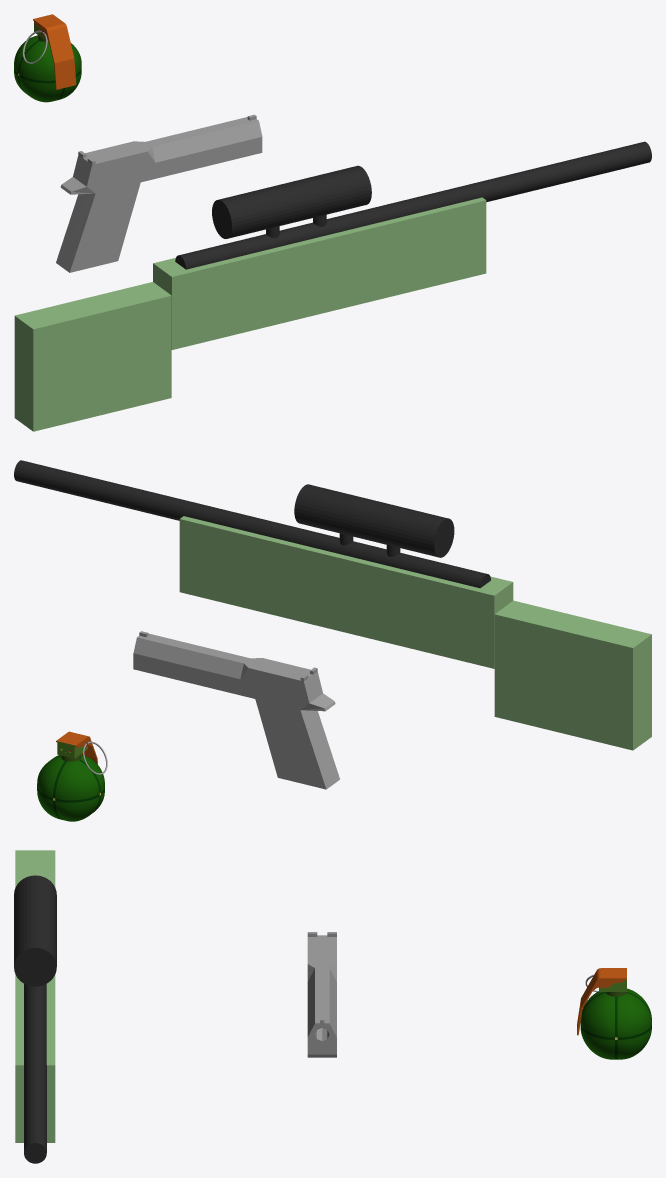
File: weapons.glb
The picture shows the model from 3 angles, top to bottom: view 1: azimuth 30°, elevation 25°; view 2: azimuth 150°, elevation 25°; view 3: azimuth 270°, elevation 25°; orthographic projection. The views are drawn at different scales.
Parts seen in each view (by area): view 1: stock, stock.001, pistol, Cylinder, Cylinder.003, plater, hair; view 2: stock, stock.001, pistol, Cylinder, Cylinder.003, plater, hair; view 3: Cylinder.003, Cylinder, plater, pistol, stock, stock.001, hair, cross.
Boxes of the visible parts, bbox=[...] form: stock: bbox=[153, 197, 486, 349]; stock.001: bbox=[14, 282, 171, 431]; pistol: bbox=[56, 114, 262, 272]; Cylinder: bbox=[175, 141, 651, 269]; Cylinder.003: bbox=[212, 165, 371, 238]; plater: bbox=[14, 35, 81, 102]; hair: bbox=[33, 14, 76, 89]; stock: bbox=[179, 516, 513, 668]; stock.001: bbox=[494, 600, 651, 750]; pistol: bbox=[133, 631, 339, 789]; Cylinder: bbox=[14, 460, 490, 588]; Cylinder.003: bbox=[294, 484, 454, 557]; plater: bbox=[37, 754, 104, 821]; hair: bbox=[56, 731, 97, 764]; Cylinder.003: bbox=[14, 875, 56, 986]; Cylinder: bbox=[24, 984, 46, 1163]; plater: bbox=[580, 988, 651, 1059]; pistol: bbox=[307, 932, 336, 1057]; stock: bbox=[15, 974, 55, 1142]; stock.001: bbox=[15, 850, 55, 887]; hair: bbox=[577, 968, 626, 1035]; cross: bbox=[580, 992, 651, 1059].
Size of the model in its own units: 26.73 by 7.19 by 22.34.
